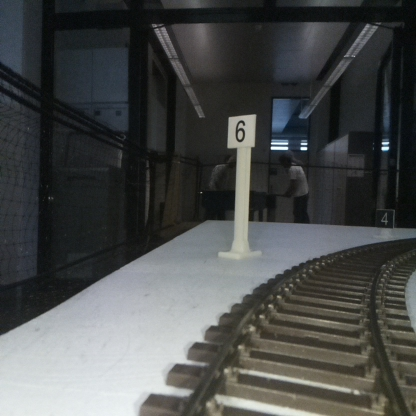black-stop-4: (376, 207, 394, 237)
white-info-6: (228, 113, 255, 256)
